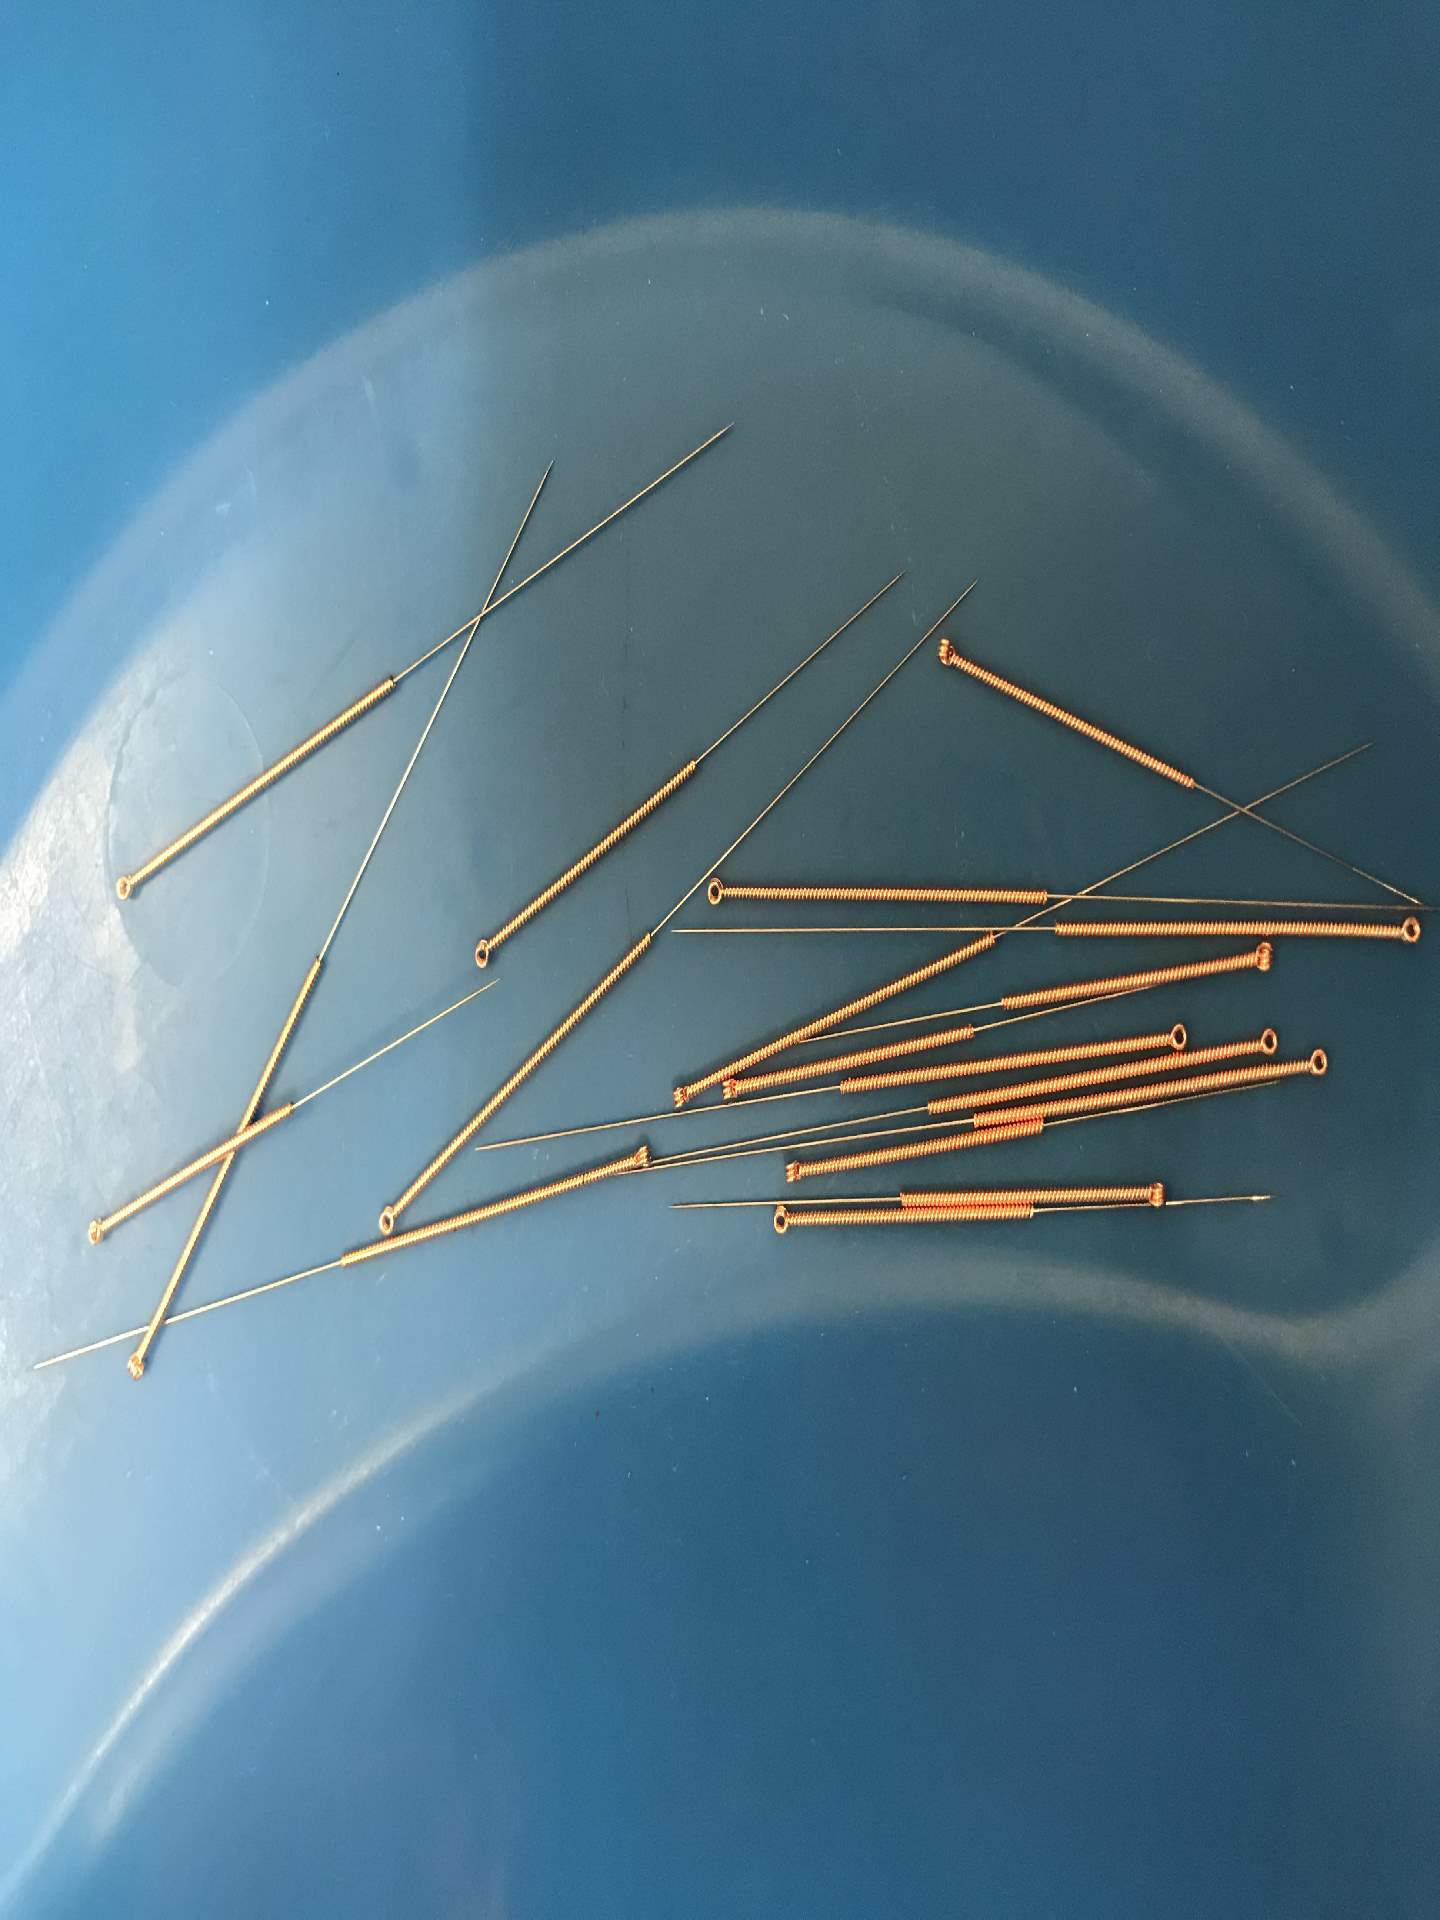needle: (118, 1339, 156, 1388), (1389, 909, 1426, 954), (699, 871, 735, 918), (79, 1208, 115, 1255), (1296, 1039, 1333, 1084), (929, 633, 967, 676), (1243, 936, 1280, 980), (1248, 1017, 1284, 1061), (464, 934, 501, 977), (109, 865, 144, 909), (762, 1202, 800, 1241), (371, 1194, 404, 1238), (774, 1154, 811, 1193), (1136, 1175, 1171, 1212), (625, 1138, 658, 1178), (1159, 1014, 1190, 1052), (663, 1076, 694, 1113), (717, 1073, 749, 1108)
